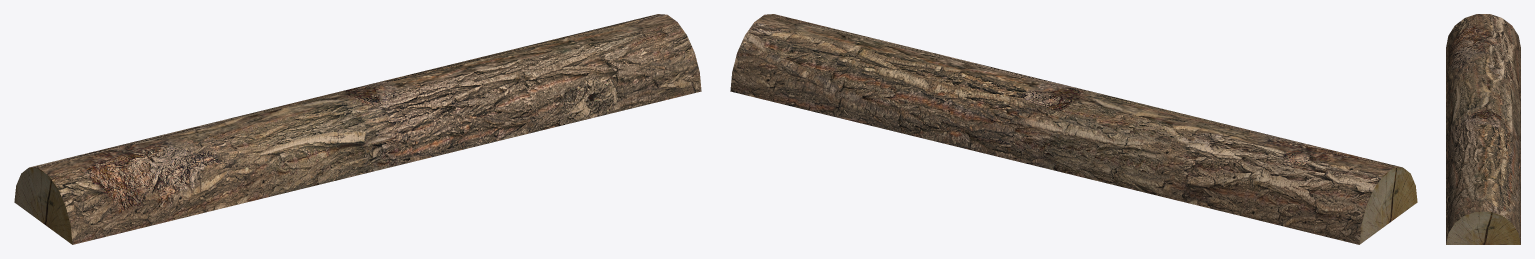
File: tronco.fbx
The picture shows the model from 3 angles, left to right: view 1: azimuth 30°, elevation 25°; view 2: azimuth 150°, elevation 25°; view 3: azimuth 270°, elevation 25°; orthographic projection. The views are drawn at different scales.
Visible parts, largest first — view 1: tronco_baja; view 2: tronco_baja; view 3: tronco_baja.
Part boxes in pixels (x1,y1,x2,y2): tronco_baja: (14,14,701,244); tronco_baja: (730,14,1417,244); tronco_baja: (1446,14,1520,244).
Size of the model in its own units: 250 by 19.7 by 40.
